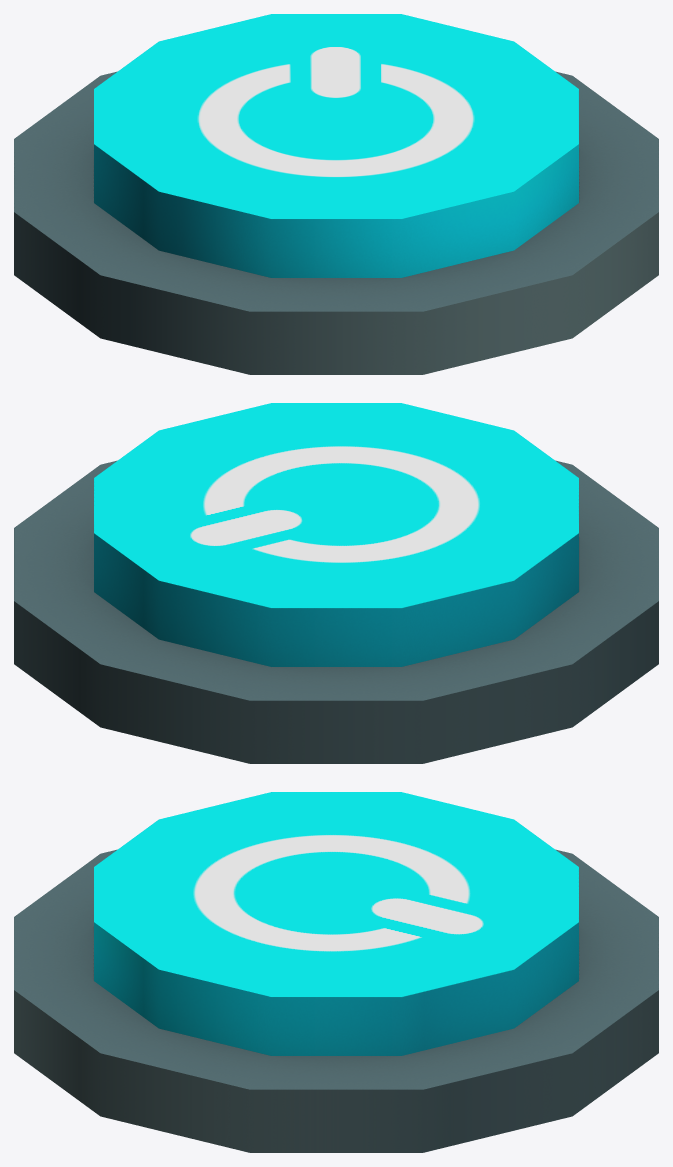
File: dm_button.fbx
The picture shows the model from 3 angles, top to bottom: view 1: azimuth 30°, elevation 25°; view 2: azimuth 150°, elevation 25°; view 3: azimuth 270°, elevation 25°; orthographic projection.
Parts seen in each view (by area): view 1: st_button_press, st_button_base; view 2: st_button_press, st_button_base; view 3: st_button_press, st_button_base.
Boxes of the visible parts, x1,y1,x2,y2 form: st_button_press: (94,14,578,277); st_button_base: (14,71,658,374); st_button_press: (94,403,578,666); st_button_base: (14,460,658,763); st_button_press: (94,792,578,1055); st_button_base: (14,849,658,1152).
Bounding box in the file's own units: 193 × 40.35 × 193.
